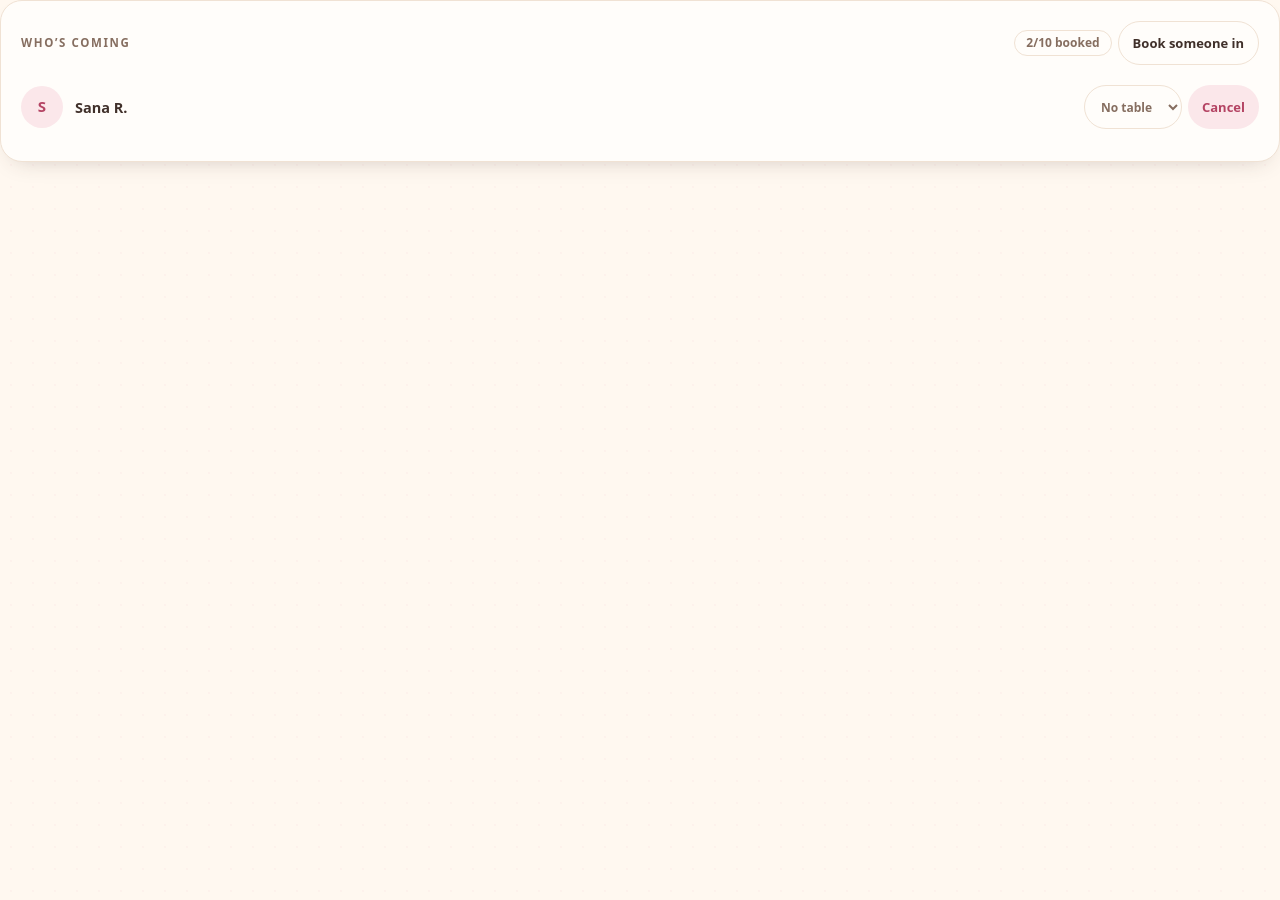
Test case: SessionRoster › cancelling › offers a credit or a refund
The width and height of the screenshot is (1280, 900).
Click the button with aria-label "Cancel Sana R.": (1224, 107) 1188,85 -> 1259,129
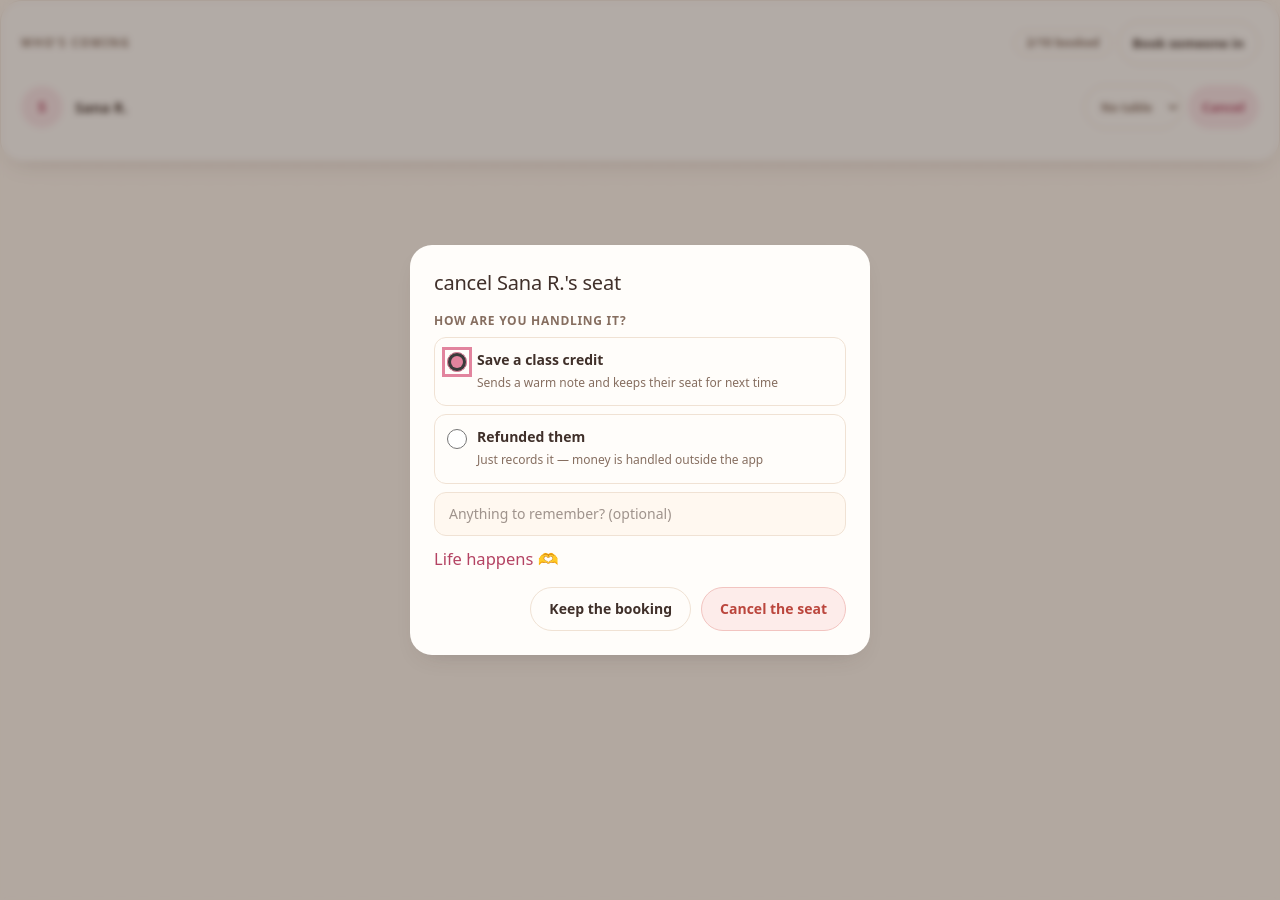
Check: the radio button labelled "Save a class credit" is checked, box 447,352 -> 467,372
Check: the radio button labelled "Refunded them" is not checked, box 447,429 -> 467,449
